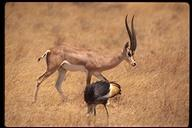antelope: (33, 13, 139, 105)
bird: (81, 79, 124, 123)
grass: (139, 5, 187, 123)
